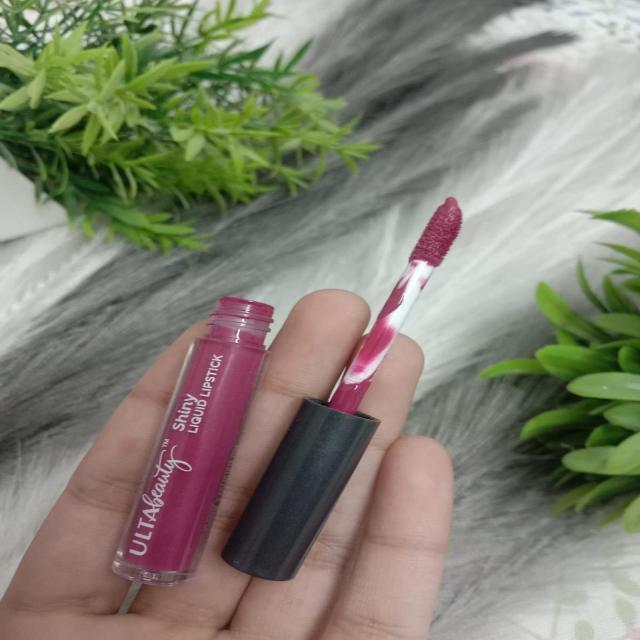lip gloss: (284, 192, 495, 536), (124, 284, 274, 553)
